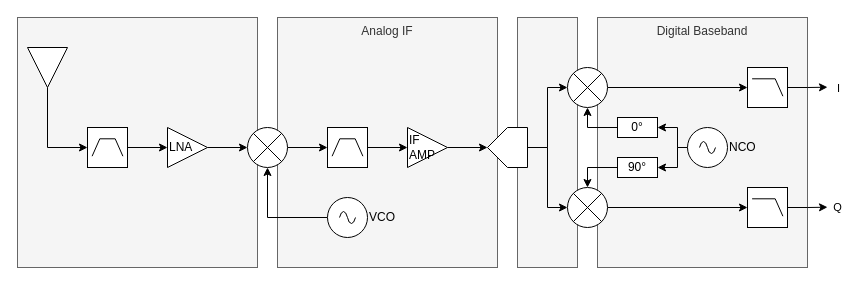
Image size: 860x285. Some labels were removed from this diagram. The box of each missing label's shape, as (x1, y1, x2, y2) in pixels:
ADC: (486, 126, 528, 168)
Analog RF: (16, 16, 258, 268)
Digital IF: (516, 16, 578, 268)
